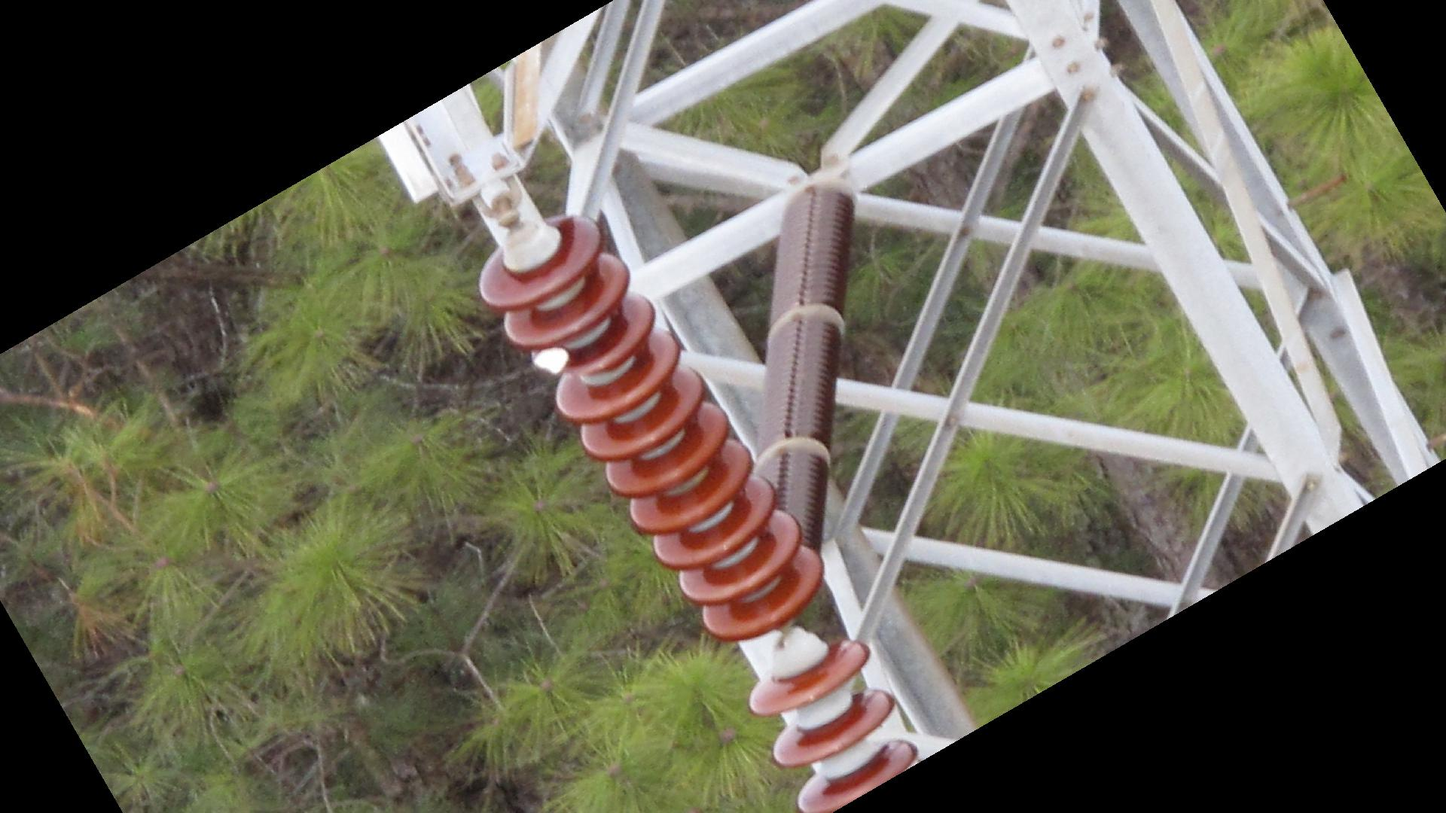insulator: (474, 211, 830, 645), (747, 179, 862, 551), (743, 634, 923, 813)
insulator_breakage: (524, 343, 575, 384)
